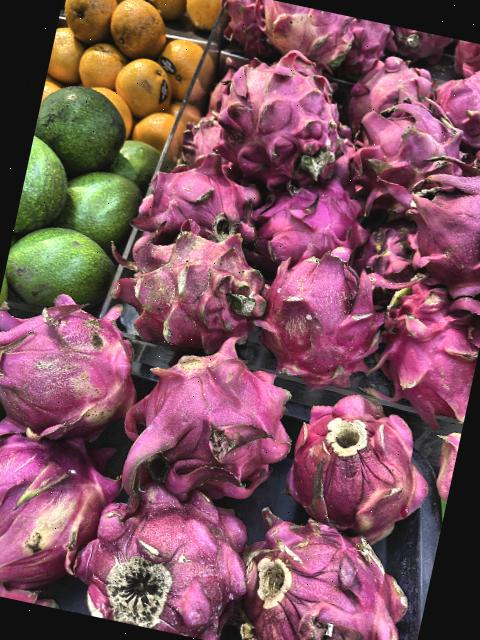buah-naga-belum-matang: (0, 291, 145, 444), (0, 420, 112, 594), (122, 221, 270, 351), (244, 0, 360, 69), (431, 56, 480, 142)
buah-naga-matang: (122, 325, 304, 506), (85, 467, 257, 640), (279, 377, 443, 550), (228, 502, 431, 640), (206, 39, 358, 191), (253, 231, 398, 386), (369, 268, 480, 415), (386, 140, 480, 307), (346, 86, 466, 214), (134, 144, 270, 254), (252, 170, 384, 276), (343, 46, 439, 127), (211, 0, 282, 66), (347, 18, 392, 68), (446, 38, 480, 82)
